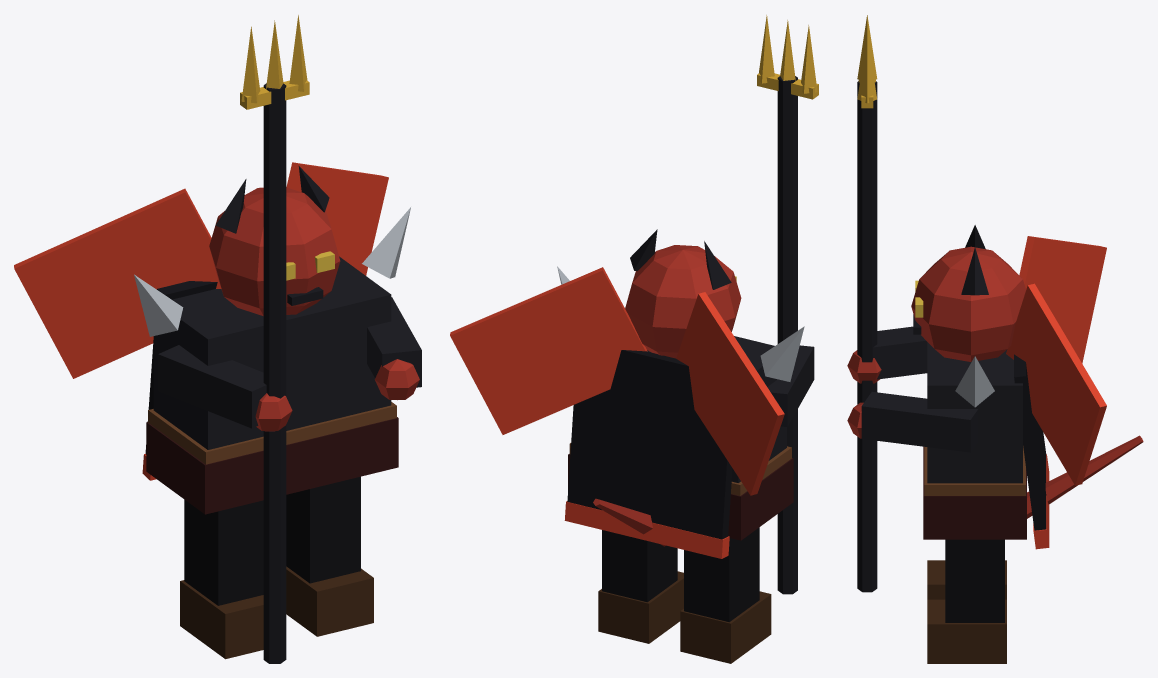
Rendered from b_demon.fbx.
3 views of the same model, side by side, from view 1: azimuth 30°, elevation 25°; view 2: azimuth 150°, elevation 25°; view 3: azimuth 270°, elevation 25° (orthographic). The views are drawn at different scales.
Visible parts, largest first — view 1: b_demon_Body, b_demon_ArmR, b_demon_LegR, b_demon_LegL, b_demon_ArmL; view 2: b_demon_Body, b_demon_ArmR, b_demon_LegR, b_demon_LegL; view 3: b_demon_Body, b_demon_ArmR, b_demon_LegL, b_demon_ArmL, b_demon_LegR.
Boxes of the visible parts, x1=… form: b_demon_Body: x1=14, y1=162, x2=410, y2=514; b_demon_ArmR: x1=158, y1=15, x2=309, y2=663; b_demon_LegR: x1=180, y1=499, x2=263, y2=659; b_demon_LegL: x1=286, y1=476, x2=373, y2=636; b_demon_ArmL: x1=367, y1=297, x2=421, y2=400; b_demon_Body: x1=450, y1=229, x2=804, y2=558; b_demon_ArmR: x1=757, y1=15, x2=818, y2=594; b_demon_LegR: x1=680, y1=527, x2=771, y2=663; b_demon_LegL: x1=598, y1=530, x2=683, y2=643; b_demon_Body: x1=911, y1=225, x2=1143, y2=549; b_demon_ArmR: x1=847, y1=15, x2=927, y2=592; b_demon_LegL: x1=927, y1=539, x2=1006, y2=663; b_demon_ArmL: x1=847, y1=391, x2=978, y2=452; b_demon_LegR: x1=927, y1=560, x2=1006, y2=599.
Bounding box in the file's own units: 0.956 × 1.61 × 0.7421.
